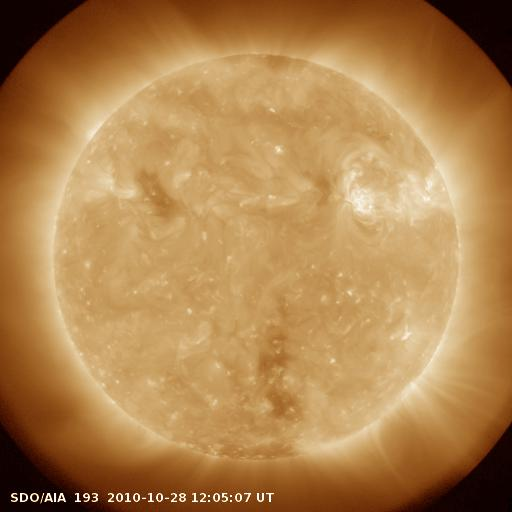coronal_hole: (250, 311, 307, 465), (126, 161, 190, 217)
